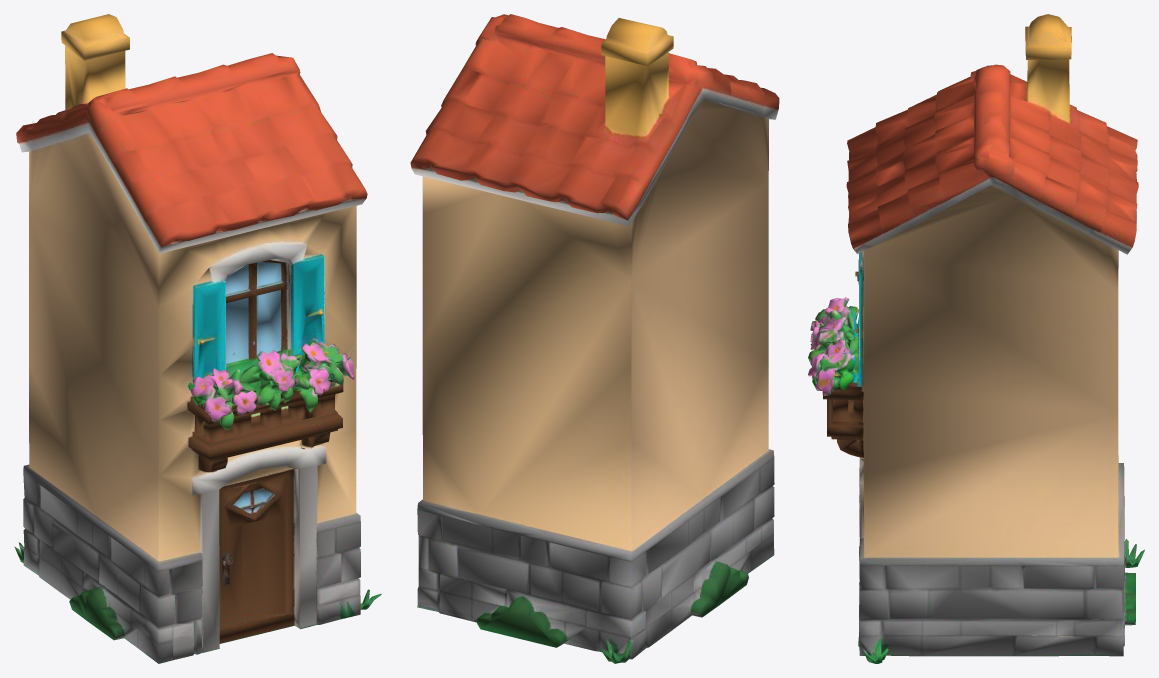
The model's file is house_terra_3.glb.
3 views of the same model, side by side, from view 1: azimuth 30°, elevation 25°; view 2: azimuth 150°, elevation 25°; view 3: azimuth 270°, elevation 25° (orthographic). The views are drawn at different scales.
Visible parts, largest first — view 1: ЦІЛЬ; view 2: ЦІЛЬ; view 3: ЦІЛЬ.
Boxes of the visible parts, x1,y1,x2,y2 form: ЦІЛЬ: (14,14,381,663); ЦІЛЬ: (410,14,779,663); ЦІЛЬ: (808,14,1144,663).
Size of the model in its own units: 0.9407 by 2.15 by 1.19.
Materials: 1 (1 with a texture image).
